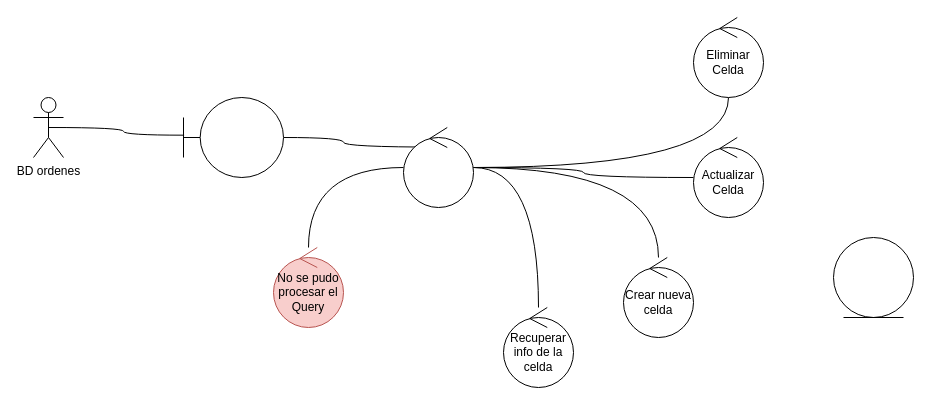
The diagram is 931 pixels wide and 405 high, and some of its shapes have lost their labels. The shapes that lost their labels are listed below. From the top down, each one's centre as x and y in pixels, then its label:
At point (233, 137): "Query".
At point (438, 167): "Ejecutar el Query".
At point (873, 277): "Entity Object".
